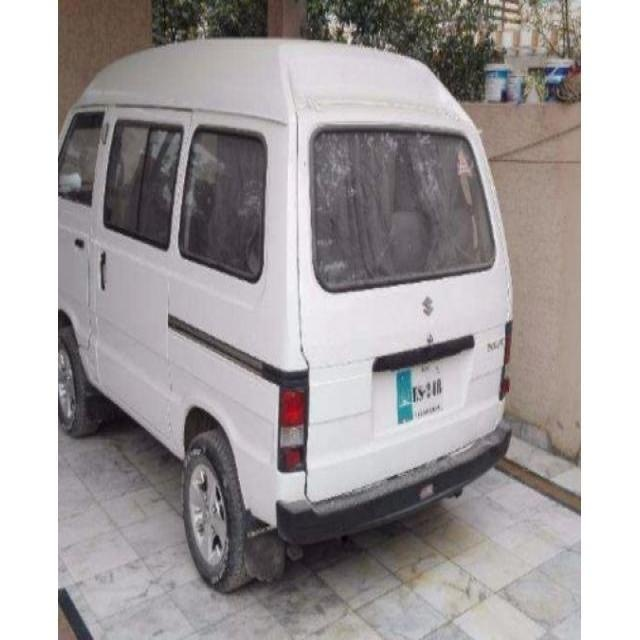Van: (59, 36, 515, 599)
